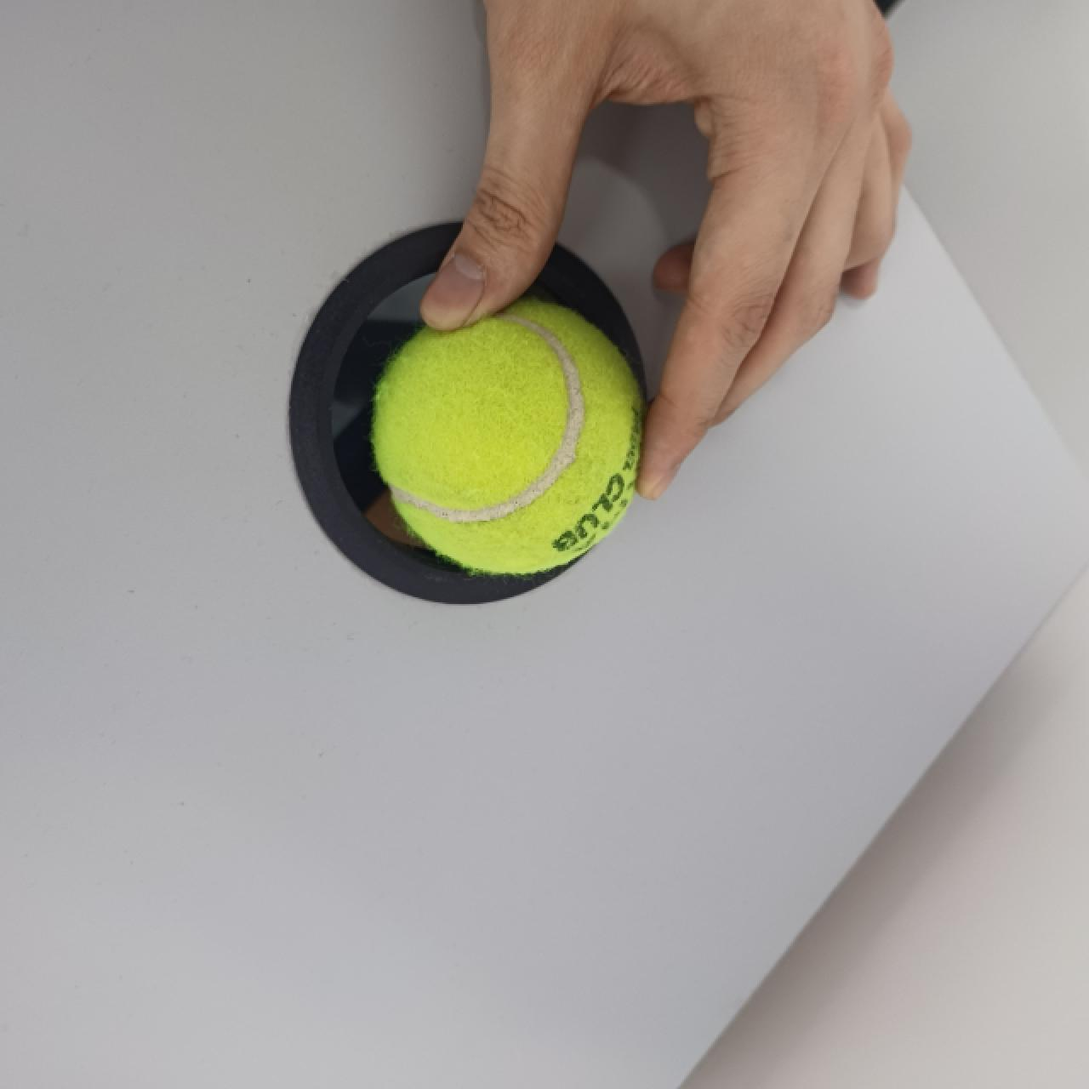tennis-ball: (373, 295, 647, 577)
